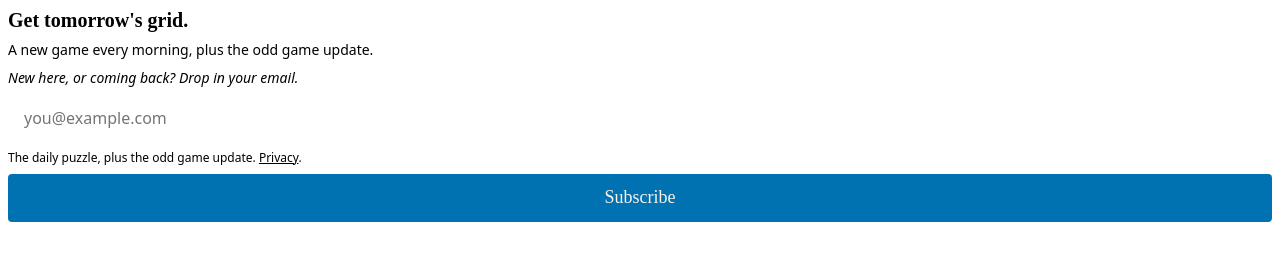
Subscribe feedback › keeps the email and permits retry after false failure
Later steps or results of the test are not shown.
Type "player@example.com" into the field named "Email address".
click(640, 119); type("player@example.com")  # box [8,97,1272,141]
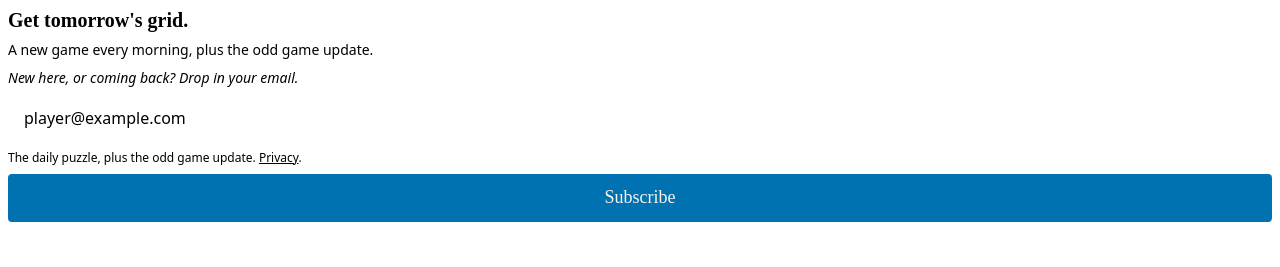
Click the button "Subscribe".
click(640, 198)  # box [8,174,1272,222]
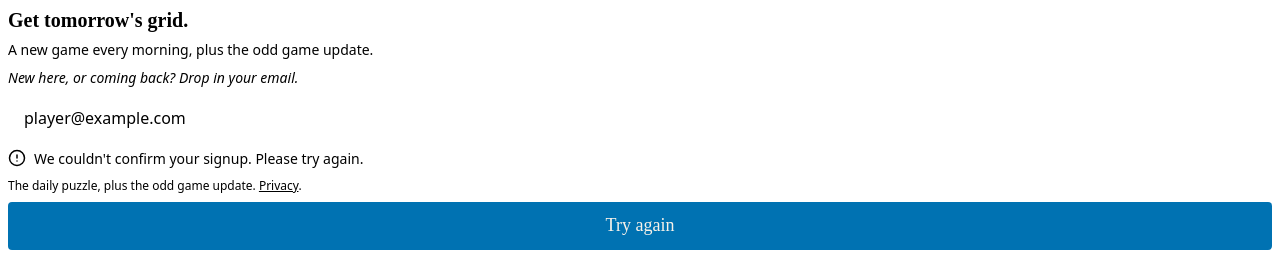
Check: the button "Try again" is shown, box [8,202,1272,250]
